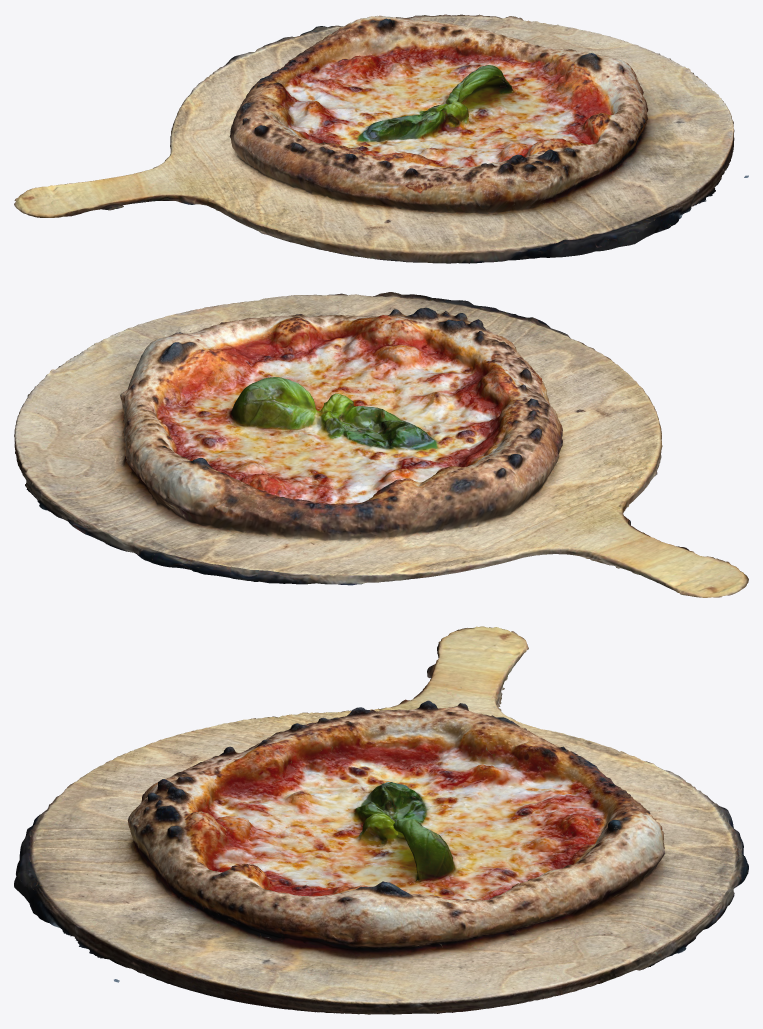
Rendered from pizza.glb.
3 views of the same model, one above another, from view 1: azimuth 30°, elevation 25°; view 2: azimuth 150°, elevation 25°; view 3: azimuth 270°, elevation 25° (orthographic). The views are drawn at different scales.
Bounding box in the file's own units: 0.4314 × 0.0366 × 0.345.
Materials: 1 (1 with a texture image).
